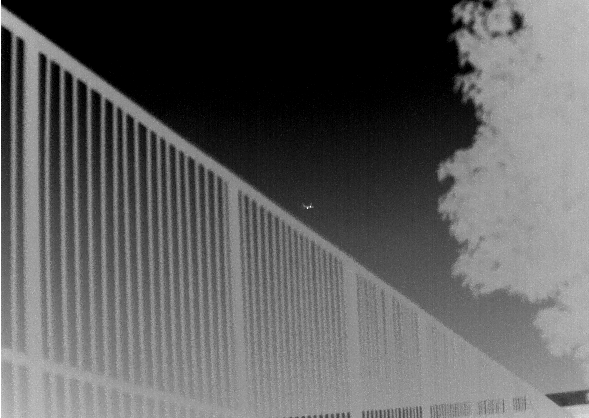dim target: (302, 203, 314, 210)
